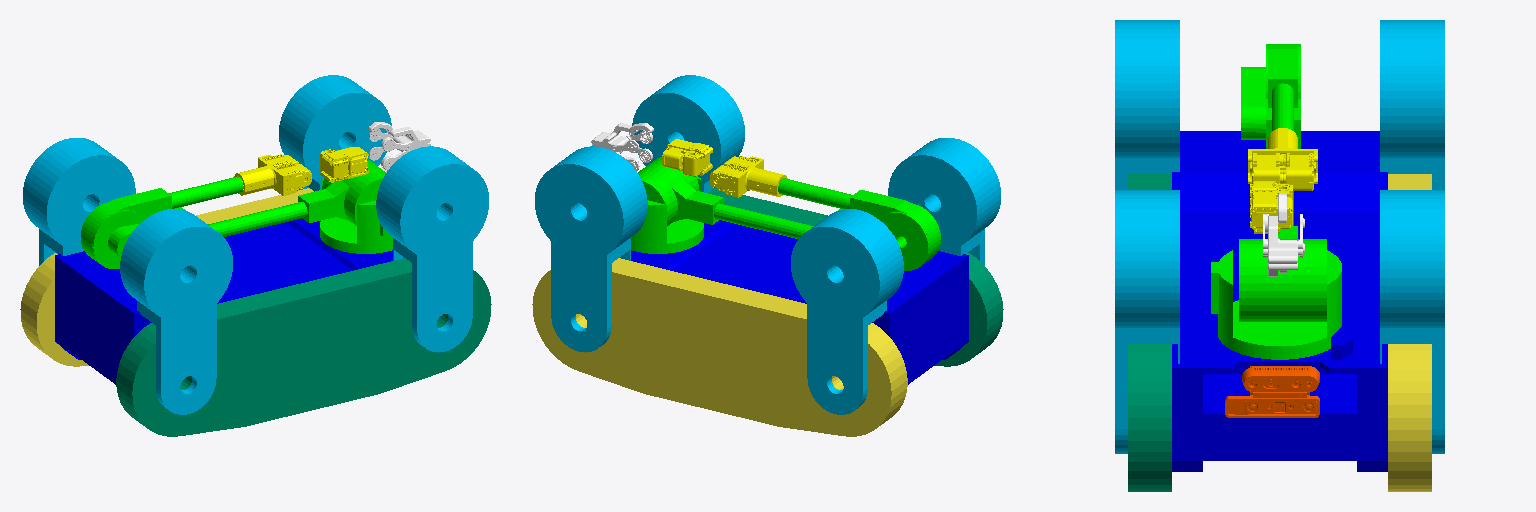
--- What the picture shows (computed from the rendered views, not written in the file) ---
3 views of the same robot in one strip: view 1: azimuth 30°, elevation 25°; view 2: azimuth 150°, elevation 25°; view 3: azimuth 270°, elevation 25° (orthographic).
Model arbie with 28 links and 27 joints (19 continuous, 8 fixed), rooted at base_link, posed all joints at 0.
Links seen in each view (by area): view 1: tracks_right_link, flipper_front_right_link, flipper_rear_right_link, body_link, flipper_rear_left_link, flipper_front_left_link, arm_lower_link, tracks_left_link, arm_upper_link, arm_base_link, wrist_base_link, wrist_yaw_link (+1 smaller); view 2: tracks_left_link, flipper_front_left_link, flipper_rear_left_link, body_link, flipper_rear_right_link, flipper_front_right_link, arm_lower_link, tracks_right_link, arm_upper_link, arm_base_link, wrist_base_link, wrist_yaw_link (+1 smaller); view 3: body_link, flipper_front_right_link, flipper_front_left_link, flipper_rear_right_link, flipper_rear_left_link, arm_lower_link, tracks_right_link, tracks_left_link, arm_base_link, wrist_base_link, arm_upper_link, camera_t265_link (+3 smaller).
Link boxes in pixels (left/top/right/bottom): tracks_right_link: left=116, top=258, right=491, bottom=436; flipper_front_right_link: left=376, top=146, right=488, bottom=352; flipper_rear_right_link: left=120, top=209, right=232, bottom=414; body_link: left=55, top=218, right=392, bottom=384; flipper_rear_left_link: left=23, top=138, right=135, bottom=265; flipper_front_left_link: left=279, top=75, right=391, bottom=191; arm_lower_link: left=81, top=160, right=385, bottom=268; tracks_left_link: left=20, top=188, right=313, bottom=366; arm_upper_link: left=81, top=177, right=243, bottom=263; arm_base_link: left=320, top=179, right=392, bottom=253; wrist_base_link: left=234, top=154, right=311, bottom=195; wrist_yaw_link: left=320, top=147, right=368, bottom=182; tracks_left_link: left=532, top=258, right=907, bottom=436; flipper_front_left_link: left=535, top=146, right=647, bottom=352; flipper_rear_left_link: left=791, top=209, right=903, bottom=414; body_link: left=631, top=220, right=968, bottom=384; flipper_rear_right_link: left=888, top=138, right=1000, bottom=265; flipper_front_right_link: left=632, top=75, right=744, bottom=192; arm_lower_link: left=638, top=157, right=940, bottom=270; tracks_right_link: left=708, top=188, right=1003, bottom=366; arm_upper_link: left=778, top=178, right=939, bottom=263; arm_base_link: left=631, top=176, right=703, bottom=253; wrist_base_link: left=710, top=156, right=787, bottom=197; wrist_yaw_link: left=662, top=139, right=712, bottom=176; body_link: left=1172, top=131, right=1387, bottom=471; flipper_front_right_link: left=1115, top=190, right=1179, bottom=453; flipper_front_left_link: left=1380, top=190, right=1444, bottom=453; flipper_rear_right_link: left=1115, top=20, right=1179, bottom=189; flipper_rear_left_link: left=1380, top=20, right=1444, bottom=189; arm_lower_link: left=1239, top=44, right=1326, bottom=321; tracks_right_link: left=1128, top=174, right=1171, bottom=491; tracks_left_link: left=1388, top=174, right=1431, bottom=491; arm_base_link: left=1211, top=250, right=1341, bottom=359; wrist_base_link: left=1248, top=128, right=1317, bottom=190; arm_upper_link: left=1268, top=44, right=1297, bottom=130; camera_t265_link: left=1225, top=396, right=1319, bottom=417.
Bounding box of the posed robot: 0.6448 × 0.378 × 0.3732 m (x, y, z).
Meshes: 27 distinct files referenced, 24 mesh visuals loaded (24 binary STL); not drawn: 3 (reference not matched to a file when rendering).

robot.urdf — arbie:
<?xml version="1.0" ?>
<robot name="arbie">

<!-- MATERIALS -->

<material name="body">
    <color rgba="0 0 1 1"/>
</material>
<material name="flipper">
    <color rgba="0 0.8 1 1"/>
</material>
<material name="track">
    <color rgba="0 0 0 1"/>
</material>
<material name="arm">
    <color rgba="0 1 0 1"/>
</material>
<material name="wrist">
    <color rgba="1 1 0 1"/>
</material>
<material name="gripper">
    <color rgba="1 1 1 1"/>
</material>
<material name="camera">
    <color rgba="1 0.4 0 1"/>
</material>


<!-- BASE LINK -->

<link name="base_link">
</link>

<joint name="base_joint" type="fixed">
<!-- TODO: Put suitable values here so base_link is located on the ground,
below the centre of the body -->
  <origin rpy="1.5708 0 1.5708" xyz="0.01 0 0.075"/>
  <parent link="base_link"/>
  <child link="body_link"/>
</joint>


<!-- BODY LINK -->

<link name="body_link">
  <inertial>
    <origin rpy="0 0 0" xyz="-0.0007103904794560104 0.04685539726506198 -0.03652499028281223"/>
    <mass value="132.38352048208554"/>
    <inertia ixx="3.87908" ixy="-0.00108" ixz="-0.002599" iyy="4.409886" iyz="0.163573" izz="0.920138"/>
  </inertial>
  <visual>
    <origin rpy="0 0 0" xyz="0 0 0"/>
    <geometry>
      <mesh filename="package://arbie_description/meshes/body.stl"/>
    </geometry>
    <material name="body"/>
  </visual>
  <collision>
    <origin rpy="0 0 0" xyz="0 0 0"/>
    <geometry>
      <mesh filename="package://arbie_description/meshes/body.stl"/>
    </geometry>
  </collision>
</link>


<!-- TRACKS LINKS -->

<link name="tracks_right_link">
  <inertial>
    <origin rpy="0 0 0" xyz="-0.02499954358879042 0.002120489076708521 -0.0007430080149572974"/>
    <mass value="44.76242127990538"/>
    <inertia ixx="1.472289" ixy="-0.0" ixz="-0.0" iyy="1.350001" iyz="0.000109" izz="0.140939"/>
  </inertial>
  <visual>
    <origin rpy="0 0 0" xyz="0.124694 -0.019326 0.010978"/>
    <geometry>
      <mesh filename="package://arbie_description/meshes/tracks_right.stl"/>
    </geometry>
    <material name="tracks"/>
  </visual>
  <collision>
    <origin rpy="0 0 0" xyz="0.124694 -0.019326 0.010978"/>
    <geometry>
      <mesh filename="package://arbie_description/meshes/tracks_right.stl"/>
    </geometry>
  </collision>
</link>

<link name="tracks_left_link">
  <inertial>
    <origin rpy="0 0 0" xyz="0.02500045641121243 0.00212048907670849 -0.000743015955378042"/>
    <mass value="44.76242127990538"/>
    <inertia ixx="1.472289" ixy="-0.0" ixz="-0.0" iyy="1.350001" iyz="0.000109" izz="0.140939"/>
  </inertial>
  <visual>
    <origin rpy="0 0 0" xyz="-0.123306 -0.019326 0.010978"/>
    <geometry>
      <mesh filename="package://arbie_description/meshes/tracks_left.stl"/>
    </geometry>
    <material name="tracks"/>
  </visual>
  <collision>
    <origin rpy="0 0 0" xyz="-0.123306 -0.019326 0.010978"/>
    <geometry>
      <mesh filename="package://arbie_description/meshes/tracks_left.stl"/>
    </geometry>
  </collision>
</link>

<link name="tracks_right_wheel_link">
  <inertial>
    <origin rpy="0 0 0" xyz="-0.004999543588790428 2.946488827579308e-07 -1.3146241448734608e-07"/>
    <mass value="1.3872095061007428"/>
    <inertia ixx="0.003902" ixy="-0.0" ixz="-0.0" iyy="0.001962" iyz="-0.0" izz="0.001962"/>
  </inertial>
  <visual>
    <origin rpy="0 0 0" xyz="0.144694 -0.019326 0.010978"/>
    <geometry>
      <mesh filename="package://arbie_description/meshes/tracks_right_wheel.stl"/>
    </geometry>
    <material name="tracks"/>
  </visual>
  <collision>
    <origin rpy="0 0 0" xyz="0.144694 -0.019326 0.010978"/>
    <geometry>
      <mesh filename="package://arbie_description/meshes/tracks_right_wheel.stl"/>
    </geometry>
  </collision>
</link>

<link name="tracks_left_wheel_link">
  <inertial>
    <origin rpy="0 0 0" xyz="0.005000456411212495 2.9464888271282796e-07 -1.3940283523014574e-07"/>
    <mass value="1.3872095061007428"/>
    <inertia ixx="0.003902" ixy="0.0" ixz="0.0" iyy="0.001962" iyz="0.0" izz="0.001962"/>
  </inertial>
  <visual>
    <origin rpy="0 0 0" xyz="-0.143306 -0.019326 0.010978"/>
    <geometry>
      <mesh filename="package://arbie_description/meshes/tracks_left_wheel.stl"/>
    </geometry>
    <material name="tracks"/>
  </visual>
  <collision>
    <origin rpy="0 0 0" xyz="-0.143306 -0.019326 0.010978"/>
    <geometry>
      <mesh filename="package://arbie_description/meshes/tracks_left_wheel.stl"/>
    </geometry>
  </collision>
</link>


<!-- CAMERA LINKS -->

<link name="camera_mount_leg_1_link">
  <inertial>
    <origin rpy="0 0 0" xyz="-0.003687719231986318 0.005710165082249932 -1.3429420225863353e-07"/>
    <mass value="0.011972469965960587"/>
    <inertia ixx="1e-06" ixy="0.0" ixz="-0.0" iyy="0.0" iyz="0.0" izz="1e-06"/>
  </inertial>
  <visual>
    <origin rpy="0 0 0" xyz="-0.037807 -0.048101 -0.262572"/>
    <geometry>
      <mesh filename="package://arbie_description/meshes/camera_mount_leg_1.stl"/>
    </geometry>
    <material name="camera"/>
  </visual>
  <collision>
    <origin rpy="0 0 0" xyz="-0.037807 -0.048101 -0.262572"/>
    <geometry>
      <mesh filename="package://arbie_description/meshes/camera_mount_leg_1.stl"/>
    </geometry>
  </collision>
</link>

<link name="camera_mount_leg_2_link">
  <inertial>
    <origin rpy="0 0 0" xyz="0.0036876320544024996 0.005710165082249995 -1.3429420259170044e-07"/>
    <mass value="0.011972469965960601"/>
    <inertia ixx="1e-06" ixy="-0.0" ixz="0.0" iyy="0.0" iyz="-0.0" izz="1e-06"/>
  </inertial>
  <visual>
    <origin rpy="0 0 0" xyz="0.039194 -0.048101 -0.262572"/>
    <geometry>
      <mesh filename="package://arbie_description/meshes/camera_mount_leg_2.stl"/>
    </geometry>
    <material name="camera"/>
  </visual>
  <collision>
    <origin rpy="0 0 0" xyz="0.039194 -0.048101 -0.262572"/>
    <geometry>
      <mesh filename="package://arbie_description/meshes/camera_mount_leg_2.stl"/>
    </geometry>
  </collision>
</link>

<link name="camera_mount_link">
  <inertial>
    <origin rpy="0 0 0" xyz="-0.03446385172095636 0.0015631569649731947 0.008958079682170272"/>
    <mass value="0.10512980225278633"/>
    <inertia ixx="1.6e-05" ixy="-2e-06" ixz="1e-06" iyy="5.6e-05" iyz="3e-06" izz="5.4e-05"/>
  </inertial>
  <visual>
    <origin rpy="0 0 0" xyz="-0.033807 -0.073851 -0.262572"/>
    <geometry>
      <mesh filename="package://arbie_description/meshes/camera_mount.stl"/>
    </geometry>
    <material name="camera"/>
  </visual>
  <collision>
    <origin rpy="0 0 0" xyz="-0.033807 -0.073851 -0.262572"/>
    <geometry>
      <mesh filename="package://arbie_description/meshes/camera_mount.stl"/>
    </geometry>
  </collision>
</link>

<link name="camera_d435_link">
  <inertial>
    <origin rpy="0 0 0" xyz="-0.019510973805073988 0.09028780766834578 0.300025146597877"/>
    <mass value="0.3380578483539848"/>
    <inertia ixx="3.1e-05" ixy="-0.0" ixz="2e-06" iyy="0.000212" iyz="-0.0" izz="0.000211"/>
  </inertial>
  <visual>
    <origin rpy="0 0 0" xyz="-0.02125 0.0 0.025"/>
    <geometry>
      <mesh filename="package://arbie_description/meshes/camera_d435.stl"/>
    </geometry>
    <material name="camera"/>
  </visual>
  <collision>
    <origin rpy="0 0 0" xyz="-0.02125 0.0 0.025"/>
    <geometry>
      <mesh filename="package://arbie_description/meshes/camera_d435.stl"/>
    </geometry>
  </collision>
</link>

<link name="camera_t265_link">
  <inertial>
    <origin rpy="0 0 0" xyz="-0.023753775255487577 1.0333193303339872e-05 0.0048840237534042985"/>
    <mass value="0.11087104010777465"/>
    <inertia ixx="7e-06" ixy="0.0" ixz="-1e-06" iyy="0.000103" iyz="-0.0" izz="0.000108"/>
  </inertial>
  <visual>
    <origin rpy="0 0 0" xyz="-0.016177 -0.060351 -0.276572"/>
    <geometry>
      <mesh filename="package://arbie_description/meshes/camera_t265.stl"/>
    </geometry>
    <material name="camera"/>
  </visual>
  <collision>
    <origin rpy="0 0 0" xyz="-0.016177 -0.060351 -0.276572"/>
    <geometry>
      <mesh filename="package://arbie_description/meshes/camera_t265.stl"/>
    </geometry>
  </collision>
</link>


<!-- FLIPPER LINKS -->

<link name="flipper_front_right_link">
  <inertial>
    <origin rpy="0 0 0" xyz="0.019795020283170317 0.16537558379618636 -1.3146244423611897e-07"/>
    <mass value="13.868020437393694"/>
    <inertia ixx="0.085351" ixy="-0.004876" ixz="0.0" iyy="0.028555" iyz="-0.0" izz="0.07162"/>
  </inertial>
  <visual>
    <origin rpy="0 0 0" xyz="0.174694 -0.024729 -0.219022"/>
    <geometry>
      <mesh filename="package://arbie_description/meshes/flipper_front_right.stl"/>
    </geometry>
    <material name="flipper"/>
  </visual>
  <collision>
    <origin rpy="0 0 0" xyz="0.174694 -0.024729 -0.219022"/>
    <geometry>
      <mesh filename="package://arbie_description/meshes/flipper_front_right.stl"/>
    </geometry>
  </collision>
</link>

<link name="flipper_front_left_link">
  <inertial>
    <origin rpy="0 0 0" xyz="-0.019794107460748195 0.16537558379618633 -1.394028636692024e-07"/>
    <mass value="13.868020437393678"/>
    <inertia ixx="0.085351" ixy="0.004876" ixz="-0.0" iyy="0.028555" iyz="-0.0" izz="0.07162"/>
  </inertial>
  <visual>
    <origin rpy="0 0 0" xyz="-0.173306 -0.024729 -0.219022"/>
    <geometry>
      <mesh filename="package://arbie_description/meshes/flipper_front_left.stl"/>
    </geometry>
    <material name="flipper"/>
  </visual>
  <collision>
    <origin rpy="0 0 0" xyz="-0.173306 -0.024729 -0.219022"/>
    <geometry>
      <mesh filename="package://arbie_description/meshes/flipper_front_left.stl"/>
    </geometry>
  </collision>
</link>

<link name="flipper_rear_right_link">
  <inertial>
    <origin rpy="0 0 0" xyz="0.01979502028317115 0.16537558379618683 -1.3146242511252737e-07"/>
    <mass value="13.868020437393698"/>
    <inertia ixx="0.085351" ixy="-0.004876" ixz="0.0" iyy="0.028555" iyz="-0.0" izz="0.07162"/>
  </inertial>
  <visual>
    <origin rpy="0 0 0" xyz="0.174694 -0.024729 0.240978"/>
    <geometry>
      <mesh filename="package://arbie_description/meshes/flipper_rear_right.stl"/>
    </geometry>
    <material name="flipper"/>
  </visual>
  <collision>
    <origin rpy="0 0 0" xyz="0.174694 -0.024729 0.240978"/>
    <geometry>
      <mesh filename="package://arbie_description/meshes/flipper_rear_right.stl"/>
    </geometry>
  </collision>
</link>

<link name="flipper_rear_left_link">
  <inertial>
    <origin rpy="0 0 0" xyz="-0.019794107460749416 0.16537558379618675 -1.394028462664565e-07"/>
    <mass value="13.868020437393671"/>
    <inertia ixx="0.085351" ixy="0.004876" ixz="-0.0" iyy="0.028555" iyz="-0.0" izz="0.07162"/>
  </inertial>
  <visual>
    <origin rpy="0 0 0" xyz="-0.173306 -0.024729 0.240978"/>
    <geometry>
      <mesh filename="package://arbie_description/meshes/flipper_rear_left.stl"/>
    </geometry>
    <material name="flipper"/>
  </visual>
  <collision>
    <origin rpy="0 0 0" xyz="-0.173306 -0.024729 0.240978"/>
    <geometry>
      <mesh filename="package://arbie_description/meshes/flipper_rear_left.stl"/>
    </geometry>
  </collision>
</link>


<!-- ARM LINKS -->

<link name="arm_base_link">
  <inertial>
    <origin rpy="0 0 0" xyz="-0.0016420049931783305 0.023135022831294483 -7.480052882286037e-06"/>
    <mass value="3.3465093478653403"/>
    <inertia ixx="0.005075" ixy="0.000176" ixz="-0.0" iyy="0.010632" iyz="1e-06" izz="0.009087"/>
  </inertial>
  <visual>
    <origin rpy="0 0 0" xyz="0.000694 -0.107101 -0.186272"/>
    <geometry>
      <mesh filename="package://arbie_description/meshes/arm_base.stl"/>
    </geometry>
    <material name="arm"/>
  </visual>
  <collision>
    <origin rpy="0 0 0" xyz="0.000694 -0.107101 -0.186272"/>
    <geometry>
      <mesh filename="package://arbie_description/meshes/arm_base.stl"/>
    </geometry>
  </collision>
</link>

<link name="arm_lower_link">
  <inertial>
    <origin rpy="0 0 0" xyz="-0.053878611230066 0.007243666919340863 -0.13003163766238773"/>
    <mass value="9.290217371436244"/>
    <inertia ixx="0.285483" ixy="0.000938" ixz="-0.009995" iyy="0.285913" iyz="0.0181" izz="0.011485"/>
  </inertial>
  <visual>
    <origin rpy="0 0 0" xyz="-0.052806 -0.174101 -0.186495"/>
    <geometry>
      <mesh filename="package://arbie_description/meshes/arm_lower.stl"/>
    </geometry>
    <material name="arm"/>
  </visual>
  <collision>
    <origin rpy="0 0 0" xyz="-0.052806 -0.174101 -0.186495"/>
    <geometry>
      <mesh filename="package://arbie_description/meshes/arm_lower.stl"/>
    </geometry>
  </collision>
</link>

<link name="arm_upper_link">
  <inertial>
    <origin rpy="0 0 0" xyz="-0.016999544747906395 0.013376208584352511 0.039239753662060034"/>
    <mass value="3.0631873001334227"/>
    <inertia ixx="0.015235" ixy="0.0" ixz="0.0" iyy="0.013273" iyz="-0.002633" izz="0.002494"/>
  </inertial>
  <visual>
    <origin rpy="0 0 0" xyz="-0.019806 -0.209101 0.263505"/>
    <geometry>
      <mesh filename="package://arbie_description/meshes/arm_upper.stl"/>
    </geometry>
    <material name="arm"/>
  </visual>
  <collision>
    <origin rpy="0 0 0" xyz="-0.019806 -0.209101 0.263505"/>
    <geometry>
      <mesh filename="package://arbie_description/meshes/arm_upper.stl"/>
    </geometry>
  </collision>
</link>


<!-- WRIST LINKS -->

<link name="wrist_base_link">
  <inertial>
    <origin rpy="0 0 0" xyz="4.57436623640603e-07 0.00012475245793225342 0.025292868333247724"/>
    <mass value="0.9490572232520995"/>
    <inertia ixx="0.000757" ixy="1e-06" ixz="-0.0" iyy="0.001107" iyz="2e-06" izz="0.000496"/>
  </inertial>
  <visual>
    <origin rpy="0 0 0" xyz="-0.002806 -0.244101 0.038505"/>
    <geometry>
      <mesh filename="package://arbie_description/meshes/wrist_base.stl"/>
    </geometry>
    <material name="wrist"/>
  </visual>
  <collision>
    <origin rpy="0 0 0" xyz="-0.002806 -0.244101 0.038505"/>
    <geometry>
      <mesh filename="package://arbie_description/meshes/wrist_base.stl"/>
    </geometry>
  </collision>
</link>

<link name="wrist_pitch_link">
  <inertial>
    <origin rpy="0 0 0" xyz="-0.0332984740595477 0.0020671950198172806 0.02282064850736746"/>
    <mass value="0.08039663104912372"/>
    <inertia ixx="5.5e-05" ixy="0.0" ixz="0.0" iyy="9.5e-05" iyz="-7e-06" izz="8e-05"/>
  </inertial>
  <visual>
    <origin rpy="0 0 0" xyz="-0.036206 -0.244101 -0.014995"/>
    <geometry>
      <mesh filename="package://arbie_description/meshes/wrist_pitch.stl"/>
    </geometry>
    <material name="wrist"/>
  </visual>
  <collision>
    <origin rpy="0 0 0" xyz="-0.036206 -0.244101 -0.014995"/>
    <geometry>
      <mesh filename="package://arbie_description/meshes/wrist_pitch.stl"/>
    </geometry>
  </collision>
</link>

<link name="wrist_yaw_link">
  <inertial>
    <origin rpy="0 0 0" xyz="-0.013267784777998575 0.01927575393175185 0.016285676232992735"/>
    <mass value="0.6469480906726006"/>
    <inertia ixx="0.000275" ixy="2e-06" ixz="2e-06" iyy="0.000342" iyz="3e-06" izz="0.000171"/>
  </inertial>
  <visual>
    <origin rpy="0 0 0" xyz="-0.002906 -0.225651 -0.078119"/>
    <geometry>
      <mesh filename="package://arbie_description/meshes/wrist_yaw.stl"/>
    </geometry>
    <material name="wrist"/>
  </visual>
  <collision>
    <origin rpy="0 0 0" xyz="-0.002906 -0.225651 -0.078119"/>
    <geometry>
      <mesh filename="package://arbie_description/meshes/wrist_yaw.stl"/>
    </geometry>
  </collision>
</link>


<!-- GRIPPER LINKS -->

<link name="gripper_base_link">
  <inertial>
    <origin rpy="0 0 0" xyz="-4.607760189011137e-05 -0.0006917471996047975 0.03460710409065769"/>
    <mass value="0.6706735500880907"/>
    <inertia ixx="0.000199" ixy="0.0" ixz="0.0" iyy="0.000353" iyz="-3e-06" izz="0.000284"/>
  </inertial>
  <visual>
    <origin rpy="0 0 0" xyz="-0.002906 -0.244651 -0.123519"/>
    <geometry>
      <mesh filename="package://arbie_description/meshes/gripper_base.stl"/>
    </geometry>
    <material name="gripper"/>
  </visual>
  <collision>
    <origin rpy="0 0 0" xyz="-0.002906 -0.244651 -0.123519"/>
    <geometry>
      <mesh filename="package://arbie_description/meshes/gripper_base.stl"/>
    </geometry>
  </collision>
</link>

<link name="gripper_right_driver_link">
  <inertial>
    <origin rpy="0 0 0" xyz="4.537220775792383e-07 -0.03094002747411953 0.004350576193156569"/>
    <mass value="0.01374798583124482"/>
    <inertia ixx="5e-06" ixy="-0.0" ixz="0.0" iyy="2e-06" iyz="-1e-06" izz="4e-06"/>
  </inertial>
  <visual>
    <origin rpy="0 0 0" xyz="-0.018906 -0.263651 -0.172219"/>
    <geometry>
      <mesh filename="package://arbie_description/meshes/gripper_right_driver.stl"/>
    </geometry>
    <material name="gripper"/>
  </visual>
  <collision>
    <origin rpy="0 0 0" xyz="-0.018906 -0.263651 -0.172219"/>
    <geometry>
      <mesh filename="package://arbie_description/meshes/gripper_right_driver.stl"/>
    </geometry>
  </collision>
</link>

<link name="gripper_right_linkage_link">
  <inertial>
    <origin rpy="0 0 0" xyz="0.005348977862044579 0.00500022075444323 -0.01750042810563407"/>
    <mass value="0.00386409068463368"/>
    <inertia ixx="1e-06" ixy="0.0" ixz="0.0" iyy="1e-06" iyz="-0.0" izz="0.0"/>
  </inertial>
  <visual>
    <origin rpy="0 0 0" xyz="0.015 -0.485 -0.09"/>
    <!--<origin rpy="0 0 0" xyz="0.03671 -0.238651 -0.153719"/>-->
    <geometry>
      <mesh filename="package://arbie_description/meshes/gripper_right_linkage.stl"/>
    </geometry>
    <material name="gripper"/>
  </visual>
  <collision>
    <origin rpy="0 0 0" xyz="-0.03671 -0.238651 0.153719"/>
    <geometry>
      <mesh filename="package://arbie_description/meshes/gripper_right_linkage.stl"/>
    </geometry>
  </collision>
</link>

<link name="gripper_right_contact_link">
  <inertial>
    <origin rpy="0 0 0" xyz="0.004967829686739981 -0.01899661466926142 0.016466890477460472"/>
    <mass value="0.023712538812289255"/>
    <inertia ixx="7e-06" ixy="1e-06" ixz="2e-06" iyy="7e-06" iyz="-1e-06" izz="4e-06"/>
  </inertial>
  <visual>
    <origin rpy="0 0 0" xyz="-0.018906 -0.261251 -0.207219"/>
    <geometry>
      <mesh filename="package://arbie_description/meshes/gripper_right_contact.stl"/>
    </geometry>
    <material name="gripper"/>
  </visual>
  <collision>
    <origin rpy="0 0 0" xyz="-0.018906 -0.261251 -0.207219"/>
    <geometry>
      <mesh filename="package://arbie_description/meshes/gripper_right_contact.stl"/>
    </geometry>
  </collision>
</link>

<link name="gripper_left_driver_link">
  <inertial>
    <origin rpy="0 0 0" xyz="4.552690735497994e-07 -0.030940033304886344 0.004350583148282683"/>
    <mass value="0.013747989643093032"/>
    <inertia ixx="5e-06" ixy="0.0" ixz="0.0" iyy="2e-06" iyz="-1e-06" izz="4e-06"/>
  </inertial>
  <visual>
    <origin rpy="0 0 0" xyz="0.013094 -0.263651 -0.172219"/>
    <geometry>
      <mesh filename="package://arbie_description/meshes/gripper_left_driver.stl"/>
    </geometry>
    <material name="gripper"/>
  </visual>
  <collision>
    <origin rpy="0 0 0" xyz="0.013094 -0.263651 -0.172219"/>
    <geometry>
      <mesh filename="package://arbie_description/meshes/gripper_left_driver.stl"/>
    </geometry>
  </collision>
</link>

<link name="gripper_left_contact_link">
  <inertial>
    <origin rpy="0 0 0" xyz="-0.0049669191825520796 -0.01899661466926142 0.016466890477460527"/>
    <mass value="0.023712538812289255"/>
    <inertia ixx="7e-06" ixy="-1e-06" ixz="-2e-06" iyy="7e-06" iyz="-1e-06" izz="4e-06"/>
  </inertial>
  <visual>
    <origin rpy="0 0 0" xyz="0.013094 -0.261251 -0.207219"/>
    <geometry>
      <mesh filename="package://arbie_description/meshes/gripper_left_contact.stl"/>
    </geometry>
    <material name="gripper"/>
  </visual>
  <collision>
    <origin rpy="0 0 0" xyz="0.013094 -0.261251 -0.207219"/>
    <geometry>
      <mesh filename="package://arbie_description/meshes/gripper_left_contact.stl"/>
    </geometry>
  </collision>
</link>

<link name="gripper_left_linkage_link">
  <inertial>
    <origin rpy="0 0 0" xyz="-0.005348977862044579 0.00500022075444323 0.01750042810563407"/>
    <mass value="0.00386409068463368"/>
    <inertia ixx="1e-06" ixy="0.0" ixz="0.0" iyy="1e-06" iyz="-0.0" izz="0.0"/>
  </inertial>
  <visual>
    <origin rpy="0 0 0" xyz="0.03671 -0.238651 -0.153719"/>
    <geometry>
      <mesh filename="package://arbie_description/meshes/gripper_left_linkage.stl"/>
    </geometry>
    <material name="gripper"/>
  </visual>
  <collision>
    <origin rpy="0 0 0" xyz="0.03671 -0.238651 -0.153719"/>
    <geometry>
      <mesh filename="package://arbie_description/meshes/gripper_left_linkage.stl"/>
    </geometry>
  </collision>
</link>


<!-- RIGID JOINTS -->

<joint name="rigid_body_to_tracks_left_joint" type="fixed">
  <origin rpy="0 0 0" xyz="0.123306 0.019326 -0.010978"/>
  <parent link="body_link"/>
  <child link="tracks_left_link"/>
</joint>

<joint name="rigid_body_to_tracks_right_joint" type="fixed">
  <origin rpy="0 0 0" xyz="-0.124694 0.019326 -0.010978"/>
  <parent link="body_link"/>
  <child link="tracks_right_link"/>
</joint>

<joint name="rigid_body_to_camera_mount_leg_1_joint" type="fixed">
  <origin rpy="0 0 0" xyz="0.037807 0.048101 0.262572"/>
  <parent link="body_link"/>
  <child link="camera_mount_leg_1_link"/>
</joint>

<joint name="rigid_body_to_camera_mount_leg_2_joint" type="fixed">
  <origin rpy="0 0 0" xyz="-0.039194 0.048101 0.262572"/>
  <parent link="body_link"/>
  <child link="camera_mount_leg_2_link"/>
</joint>

<joint name="rigid_camera_mount_to_camera_d435_joint" type="fixed">
  <origin rpy="0 0 0" xyz="-0.012557 -0.073851 -0.287572"/>
  <parent link="camera_mount_link"/>
  <child link="camera_d435_link"/>
</joint>

<joint name="rigid_camera_mount_to_camera_t265_joint" type="fixed">
  <origin rpy="0 0 0" xyz="-0.01763 -0.0135 0.014"/>
  <parent link="camera_mount_link"/>
  <child link="camera_t265_link"/>
</joint>

<joint name="rigid_arm_upper_to_wrist_base_joint" type="fixed">
  <origin rpy="0 0 0" xyz="-0.017 0.035 0.27"/>
  <parent link="arm_upper_link"/>
  <child link="wrist_base_link"/>
</joint>


<!-- TRACK WHEEL JOINTS -->

<joint name="tracks_right_joint" type="continuous">
  <origin rpy="0 0 0" xyz="-0.02 0.0 0.0"/>
  <parent link="tracks_right_link"/>
  <child link="tracks_right_wheel_link"/>
  <axis xyz="1 0 0"/>
</joint>

<joint name="tracks_left_joint" type="continuous">
  <origin rpy="0 0 0" xyz="0.02 0.0 0.0"/>
  <parent link="tracks_left_link"/>
  <child link="tracks_left_wheel_link"/>
  <axis xyz="1 0 0"/>
</joint>

<transmission name="tracks_right_transmission">
  <type>transmission_interface/SimpleTransmission</type>
  <joint name="tracks_left_joint">
    <hardwareInterface>hardware_interface/VelocityJointInterface</hardwareInterface>
  </joint>
  <actuator name="tracks_left_actuator">
    <hardwareInterface>VelocityJointInterface</hardwareInterface>
    <mechanicalReduction>1</mechanicalReduction>
  </actuator>
</transmission>

<transmission name="tracks_left_transmission">
  <type>transmission_interface/SimpleTransmission</type>
  <joint name="tracks_left_joint">
    <hardwareInterface>hardware_interface/VelocityJointInterface</hardwareInterface>
  </joint>
  <actuator name="tracks_left_actuator">
    <hardwareInterface>VelocityJointInterface</hardwareInterface>
    <mechanicalReduction>1</mechanicalReduction>
  </actuator>
</transmission>

<!-- CAMERA MOUNT JOINT -->

<joint name="camera_mount_joint" type="continuous">
  <origin rpy="0 0 0" xyz="-0.004 0.02575 0.0"/>
  <parent link="camera_mount_leg_1_link"/>
  <child link="camera_mount_link"/>
  <axis xyz="1 0 0"/>
</joint>

<transmission name="camera_mount_transmission">
  <type>transmission_interface/SimpleTransmission</type>
  <joint name="camera_mount_joint">
    <hardwareInterface>hardware_interface/PositionJointInterface</hardwareInterface>
  </joint>
  <actuator name="camera_mount_actuator">
    <hardwareInterface>PositionJointInterface</hardwareInterface>
    <mechanicalReduction>1</mechanicalReduction>
  </actuator>
</transmission>


<!-- FLIPPER JOINTS -->

<joint name="flipper_front_right_joint" type="continuous">
  <origin rpy="0 0 0" xyz="-0.05 0.005403 0.23"/>
  <parent link="tracks_right_link"/>
  <child link="flipper_front_right_link"/>
  <axis xyz="1 0 0"/>
</joint>

<transmission name="flipper_front_right_transmission">
  <type>transmission_interface/SimpleTransmission</type>
  <joint name="">
    <hardwareInterface>hardware_interface/PositionJointInterface</hardwareInterface>
  </joint>
  <actuator name="flipper_front_right_actuator">
    <hardwareInterface>PositionJointInterface</hardwareInterface>
    <mechanicalReduction>1</mechanicalReduction>
  </actuator>
</transmission>

<joint name="flipper_rear_right_joint" type="continuous">
  <origin rpy="0 0 0" xyz="-0.05 0.005403 -0.23"/>
  <parent link="tracks_right_link"/>
  <child link="flipper_rear_right_link"/>
  <axis xyz="1 0 0"/>
</joint>

<transmission name="flipper_rear_right_transmission">
  <type>transmission_interface/SimpleTransmission</type>
  <joint name="flipper_rear_right_joint">
    <hardwareInterface>hardware_interface/PositionJointInterface</hardwareInterface>
  </joint>
  <actuator name="flipper_rear_right_actuator">
    <hardwareInterface>PositionJointInterface</hardwareInterface>
    <mechanicalReduction>1</mechanicalReduction>
  </actuator>
</transmission>

<joint name="flipper_front_left_joint" type="continuous">
  <origin rpy="0 0 0" xyz="0.05 0.005403 0.23"/>
  <parent link="tracks_left_link"/>
  <child link="flipper_front_left_link"/>
  <axis xyz="1 0 0"/>
</joint>

<transmission name="flipper_front_left_transmission">
  <type>transmission_interface/SimpleTransmission</type>
  <joint name="flipper_front_left_joint">
    <hardwareInterface>hardware_interace/PositionJointInterface</hardwareInterface>
  </joint>
  <actuator name="flipper_front_left_transmission">
    <hardwareInterface>PositionJointInterface</hardwareInterface>
    <mechanicalReduction>1</mechanicalReduction>
  </actuator>
</transmission>

<joint name="flipper_rear_left_joint" type="continuous">
  <origin rpy="0 0 0" xyz="0.05 0.005403 -0.23"/>
  <parent link="tracks_left_link"/>
  <child link="flipper_rear_left_link"/>
  <axis xyz="1 0 0"/>
</joint>

<transmission name="flipper_rear_left_transmission">
  <type>transmission_interface/SimpleTransmission</type>
  <joint name="flipper_rear_left_joint">
    <hardwareInterface>hardware_interface/PositionJointInterface</hardwareInterface>
  </joint>
  <actuator name="flipper_rear_left_actuator">
    <hardwareInterface>PositionJointInterface</hardwareInterface>
    <mechanicalReduction>1</mechanicalReduction>
  </actuator>
</transmission>


<!-- ARM JOINTS -->

<joint name="arm_1_joint" type="continuous">
  <origin rpy="0 0 0" xyz="-0.000694 0.107101 0.186272"/>
  <parent link="body_link"/>
  <child link="arm_base_link"/>
  <axis xyz="0 1 0"/>
</joint>

<transmission name="arm_1_tran">
  <type>transmission_interface/SimpleTransmission</type>
  <joint name="arm_1_joint">
    <hardwareInterface>hardware_interface/PositionJointInterface</hardwareInterface>
  </joint>
  <actuator name="arm_1_actuator">
    <hardwareInterface>PositionJointInterface</hardwareInterface>
    <mechanicalReduction>1</mechanicalReduction>
  </actuator>
</transmission>

<joint name="arm_2_joint" type="continuous">
  <origin rpy="0 0 0" xyz="0.0535 0.067 0.000223"/>
  <parent link="arm_base_link"/>
  <child link="arm_lower_link"/>
  <axis xyz="1 0 0"/>
</joint>

<transmission name="arm_2_transmission">
  <type>transmission_interface/SimpleTransmission</type>
  <joint name="arm_2_joint">
    <hardwareInterface>PositionJointInterface</hardwareInterface>
  </joint>
  <actuator name="arm_2_actuator">
    <hardwareInterface>PositionJointInterface</hardwareInterface>
    <mechanicalReduction>1</mechanicalReduction>
  </actuator>
</transmission>

<joint name="arm_3_joint" type="continuous">
  <origin rpy="0 0 0" xyz="-0.033 0.035 -0.45"/>
  <parent link="arm_lower_link"/>
  <child link="arm_upper_link"/>
  <axis xyz="-1 0 0"/>
</joint>

<transmission name="arm_3_transmission">
  <type>transmission_interface/SimpleTransmission</type>
  <joint name="arm_3_joint">
    <hardwareInterface>hardware_interface/PositionJointInterface</hardwareInterface>
  </joint>
  <actuator name="arm_3_actuator">
    <hardwareInterface>PositionJointInterface</hardwareInterface>
    <mechanicalReduction>1</mechanicalReduction>
  </actuator>
</transmission>


<!-- WRIST JOINTS -->

<joint name="wrist_pitch_joint" type="continuous">
  <origin rpy="0 0 0" xyz="0.0334 0.0 0.0535"/>
  <parent link="wrist_base_link"/>
  <child link="wrist_pitch_link"/>
  <axis xyz="1 0 0"/>
</joint>

<transmission name="wrist_pitch_transmission">
  <type>transmission_interface/SimpleTransmission</type>
  <joint name="wrist_pitch_joint">
    <hardwareInterface>hardware_interface/PositionJointInterface</hardwareInterface>
  </joint>
  <actuator name="wrist_pitch_actuator">
    <hardwareInterface>PositionJointInterface</hardwareInterface>
    <mechanicalReduction>1</mechanicalReduction>
  </actuator>
</transmission>

<joint name="wrist_yaw_joint" type="continuous">
  <origin rpy="0 0 0" xyz="-0.0333 -0.01845 0.063124"/>
  <parent link="wrist_pitch_link"/>
  <child link="wrist_yaw_link"/>
  <axis xyz="0 -1 0"/>
</joint>

<transmission name="wrist_yaw_transmsission">
  <type>transmission_interface/SimpleTransmission</type>
  <joint name="wrist_yaw_joint">
    <hardwareInterface>hardware_interface/PositionJointInterface</hardwareInterface>
  </joint>
  <actuator name="wrist_yaw_actuator">
    <hardwareInterface>PositionJointInterface</hardwareInterface>
    <mechanicalReduction>1</mechanicalReduction>
  </actuator>
</transmission>

<joint name="wrist_roll_joint" type="continuous">
  <origin rpy="0 0 -1.5708" xyz="0.0 0.019 0.0454"/>
  <parent link="wrist_yaw_link"/>
  <child link="gripper_base_link"/>
  <axis xyz="0 0 1"/>
</joint>

<transmission name="wrist_roll_transmission">
  <type>transmission_interface/SimpleTransmission</type>
  <joint name="wrist_roll_joint">
    <hardwareInterface>hardware_interface/PositionJointInterface</hardwareInterface>
  </joint>
  <actuator name="wrist_roll_actuator">
    <hardwareInterface>PositionJointInterface</hardwareInterface>
    <mechanicalReduction>1</mechanicalReduction>
  </actuator>
</transmission>


<!-- GRIPPER DRIVEN JOINTS -->

<joint name="gripper_joint" type="continuous">
  <origin rpy="0 -0.348 0" xyz="0.016 0.019 0.0487"/>
  <parent link="gripper_base_link"/>
  <child link="gripper_right_driver_link"/>
  <axis xyz="0 1 0"/>
</joint>

<transmission name="gripper_right_driver_transmission">
  <type>transmission_interface/SimpleTransmission</type>
  <joint name="gripper_right_driver_joint">
    <hardwareInterface>hardware_interface/PositionJointInterface</hardwareInterface>
  </joint>
  <actuator name="gripper_right_driver_actuator">
    <hardwareInterface>PositionJointInterface</hardwareInterface>
    <mechanicalReduction>1</mechanicalReduction>
  </actuator>
</transmission>

<!-- Also driven, but treat these two joints as the same
Controller drives them together. Make this joint mimic
the other -->
<joint name="gripper_mimic_joint" type="continuous">
  <origin rpy="0 0.348 0" xyz="-0.016 0.019 0.0487"/>
  <parent link="gripper_base_link"/>
  <child link="gripper_left_driver_link"/>
  <axis xyz="0 1 0"/>
  <mimic joint="gripper_joint" multiplier="-1"/>
</joint>

<!-- GRIPPER DEPENDENT JOINTS -->

<joint name="gripper_right_contact_dependent_joint" type="continuous">
  <origin rpy="0 0.348 0" xyz="0.0 -0.0024 0.035"/>
  <parent link="gripper_right_driver_link"/>
  <child link="gripper_right_contact_link"/>
  <axis xyz="0 1 0"/>
  <mimic joint="gripper_joint" multiplier="-1"/>
</joint>

<joint name="gripper_left_contact_dependent_joint" type="continuous">
  <origin rpy="0 -0.348 0" xyz="0.0 -0.0024 0.035"/>
  <parent link="gripper_left_driver_link"/>
  <child link="gripper_left_contact_link"/>
  <axis xyz="0 1 0"/>
  <mimic joint="gripper_joint" multiplier="1"/>
</joint>

<joint name="gripper_right_linkage_dependent_joint" type="continuous">
  <origin rpy="0 -0.348 0" xyz="0.039616 -0.006 0.0302"/>
  <parent link="gripper_base_link"/>
  <child link="gripper_right_linkage_link"/>
  <axis xyz="0 1 0"/>
  <mimic joint="gripper_joint" multiplier="1"/>
</joint>

<joint name="gripper_left_linkage_dependent_joint" type="continuous">
  <origin rpy="0 0.348 0" xyz="-0.039616 -0.006 0.0302"/>
  <parent link="gripper_base_link"/>
  <child link="gripper_left_linkage_link"/>
  <axis xyz="0 1 0"/>
  <mimic joint="gripper_joint" multiplier="-1"/>
</joint>


<!-- GAZEBO PLUGINS -->

<gazebo>
  <plugin filename="libgazebo_ros_control.so" name="control"/>
</gazebo>

</robot>
